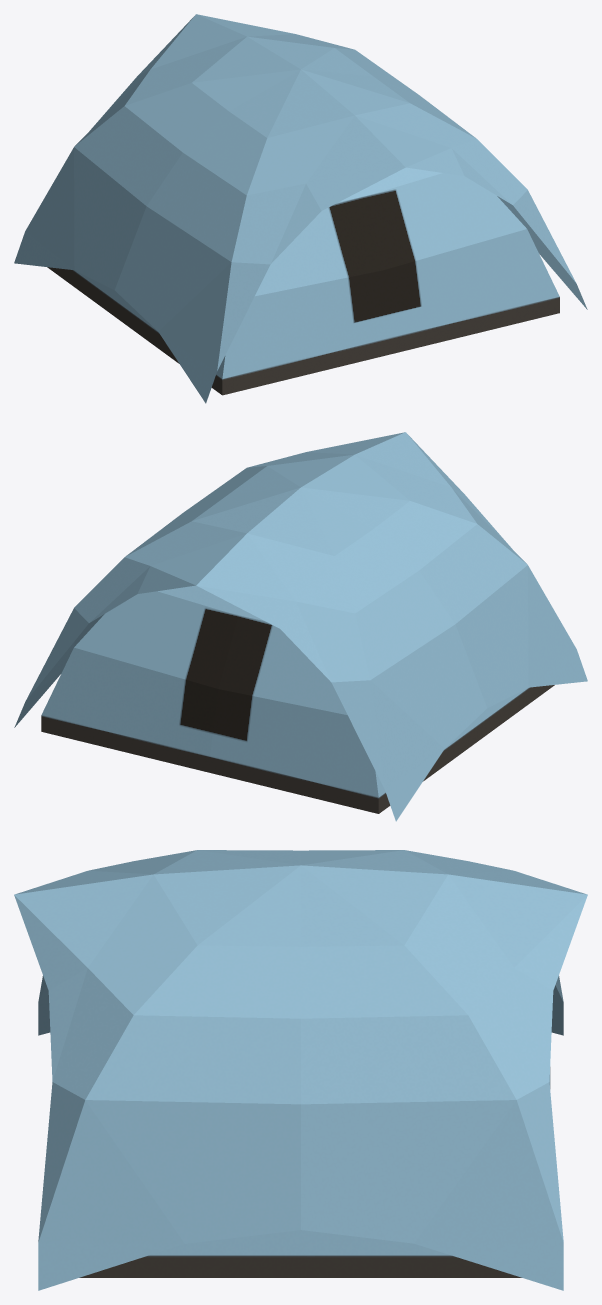
Rendered from Tent_01.FBX.
3 views of the same model, one above another, from view 1: azimuth 30°, elevation 25°; view 2: azimuth 150°, elevation 25°; view 3: azimuth 270°, elevation 25° (orthographic). The views are drawn at different scales.
Parts seen in each view (by area): view 1: Tent_01; view 2: Tent_01; view 3: Tent_01.
Boxes of the visible parts, x1,y1,x2,y2 form: Tent_01: (14,14,587,403); Tent_01: (14,432,587,821); Tent_01: (14,850,587,1290).
Bounding box in the file's own units: 446 × 244 × 424.
Materials: 1 (1 with a texture image).
